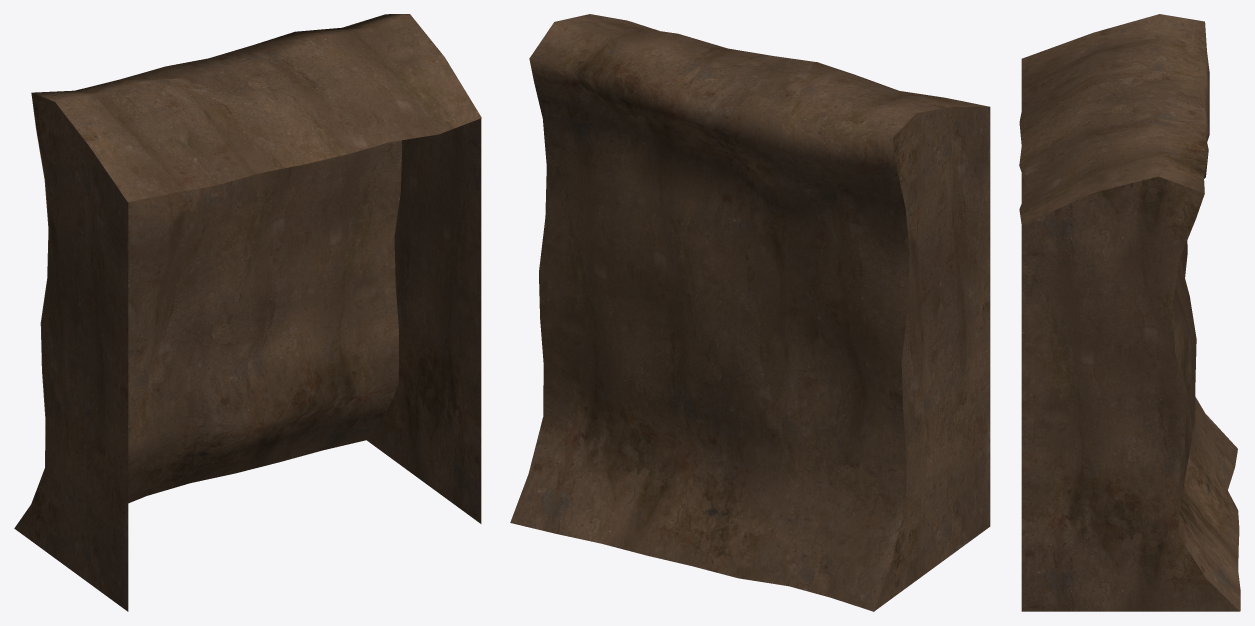
The model's file is S7U_EarthBank_2m_B_LOD1.fbx.
3 views of the same model, side by side, from view 1: azimuth 30°, elevation 25°; view 2: azimuth 150°, elevation 25°; view 3: azimuth 270°, elevation 25° (orthographic). The views are drawn at different scales.
Parts seen in each view (by area): view 1: S7U_EarthBank_2m_B_LOD1; view 2: S7U_EarthBank_2m_B_LOD1; view 3: S7U_EarthBank_2m_B_LOD1.
Boxes of the visible parts, left/top/right/bottom form: S7U_EarthBank_2m_B_LOD1: left=14, top=14, right=481, bottom=611; S7U_EarthBank_2m_B_LOD1: left=510, top=14, right=990, bottom=611; S7U_EarthBank_2m_B_LOD1: left=1019, top=14, right=1240, bottom=611.
Bounding box in the file's own units: 2 × 2.48 × 1.14.
